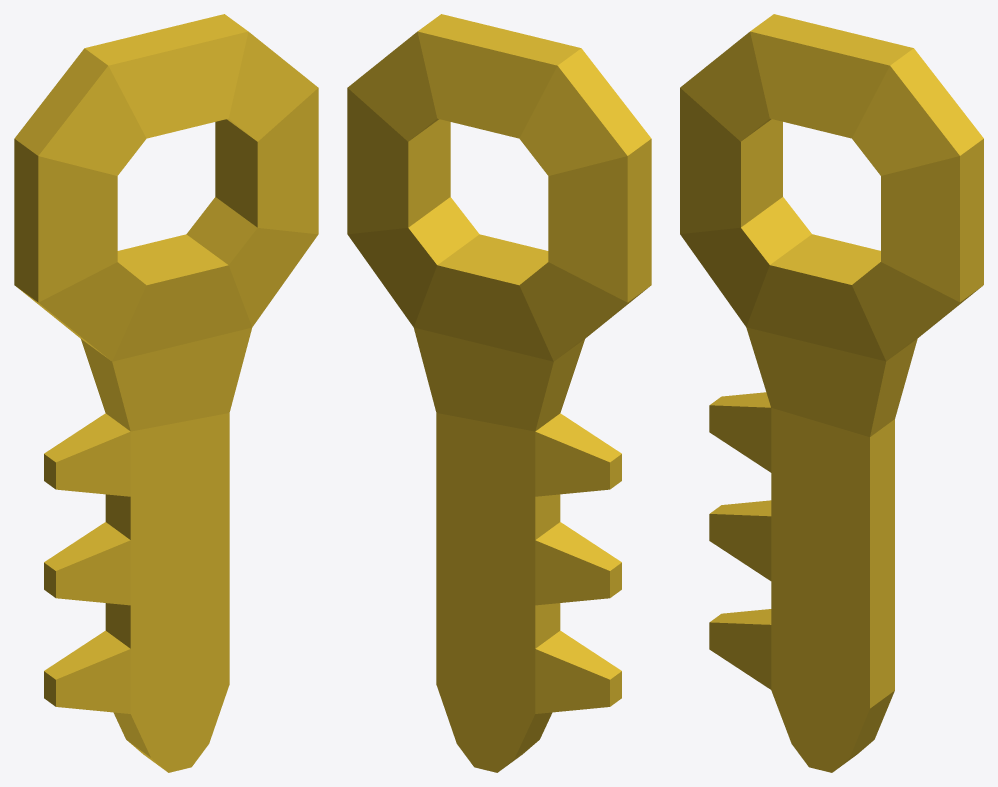
Rendered from Key.fbx.
3 views of the same model, side by side, from view 1: azimuth 30°, elevation 25°; view 2: azimuth 150°, elevation 25°; view 3: azimuth 330°, elevation 25° (orthographic).
Visible parts, largest first — view 1: Cube; view 2: Cube; view 3: Cube.
Part boxes in pixels (x1,y1,x2,y2): Cube: [14, 14, 318, 772]; Cube: [347, 14, 651, 772]; Cube: [680, 14, 983, 772].
Bounding box in the file's own units: 200 × 492 × 52.33.
